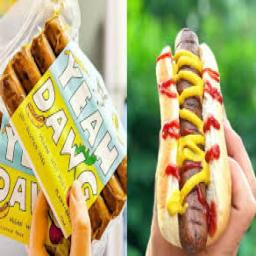hotdog: (156, 26, 233, 254)
